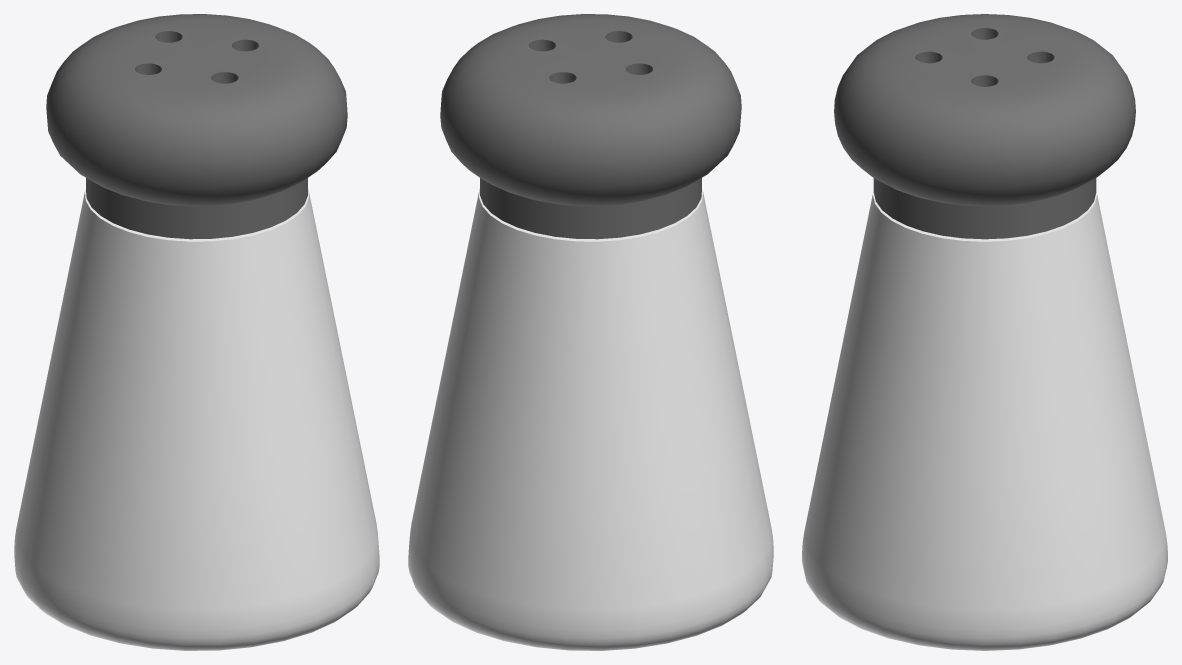
File: salt.glb
3 renders of one model, left to right at view 1: azimuth 30°, elevation 25°; view 2: azimuth 150°, elevation 25°; view 3: azimuth 270°, elevation 25°, orthographic.
Parts seen in each view (by area): view 1: Circle.2229; view 2: Circle.2229; view 3: Circle.2229.
Boxes of the visible parts, box(x1,y1,x2,y2) form: Circle.2229: box(14, 14, 379, 650); Circle.2229: box(408, 14, 773, 650); Circle.2229: box(802, 14, 1167, 650).
Size of the model in its own units: 1.22 by 1.93 by 1.22.
1 material, 1 textured.
